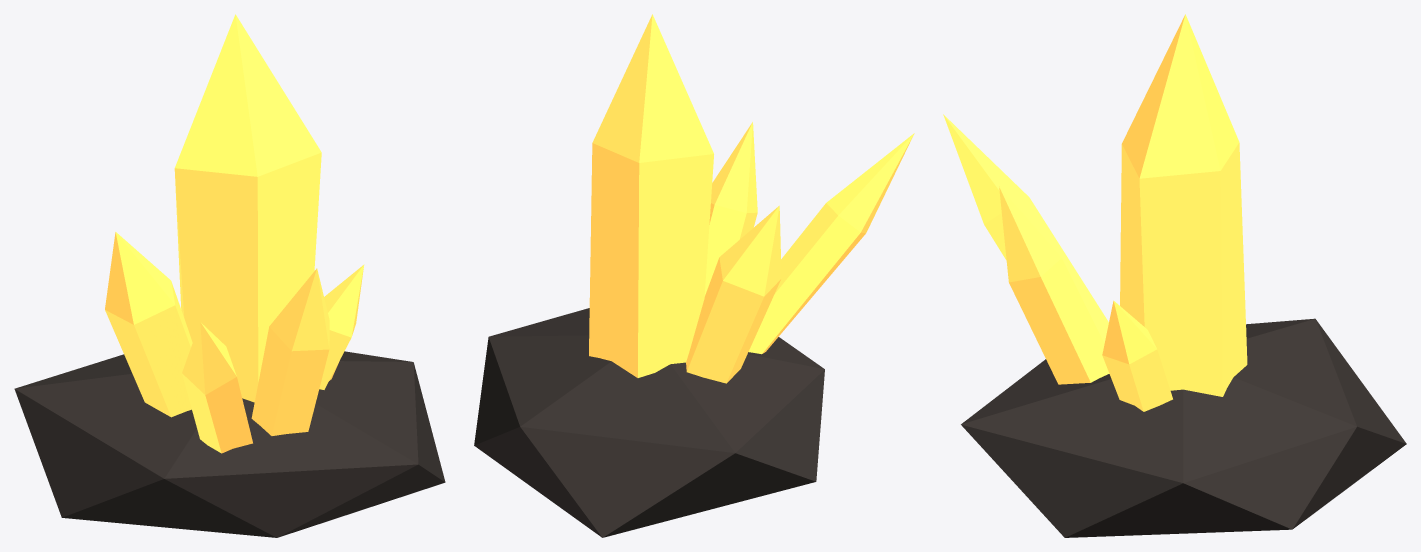
File: wb_crystal_knee_lod1.glb
The picture shows the model from 3 angles, left to right: view 1: azimuth 30°, elevation 25°; view 2: azimuth 150°, elevation 25°; view 3: azimuth 270°, elevation 25°; orthographic projection. The views are drawn at different scales.
Visible parts, largest first — view 1: wb_crystal_knee_lod1; view 2: wb_crystal_knee_lod1; view 3: wb_crystal_knee_lod1.
Boxes of the visible parts, x1,y1,x2,y2 form: wb_crystal_knee_lod1: (14,14,445,537); wb_crystal_knee_lod1: (474,14,914,537); wb_crystal_knee_lod1: (943,14,1406,537).
Bounding box in the file's own units: 1.03 × 1.41 × 1.2.
